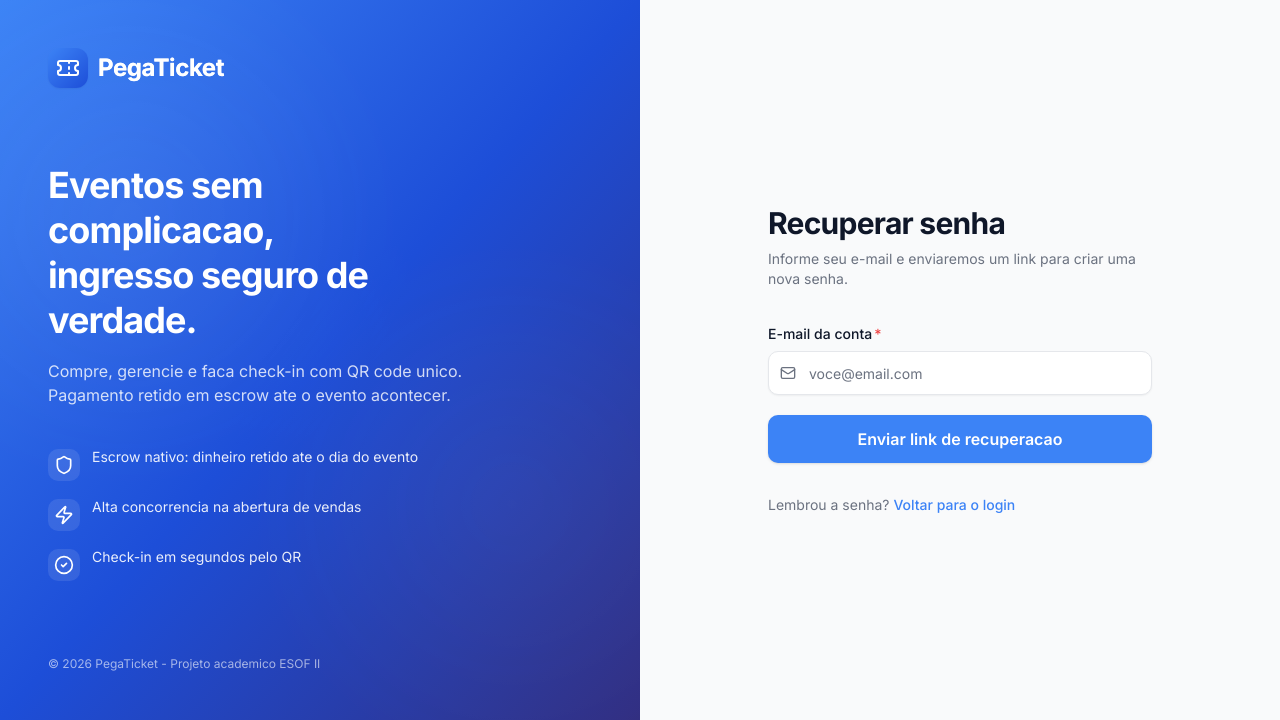
Test: <ForgotPassword> › rejeita email vazio (validacao client)
This screenshot has width=1280, height=720.
Click the button "Enviar link de recuperacao" at (960, 439), box top-left (768, 415), bottom-right (1152, 463)
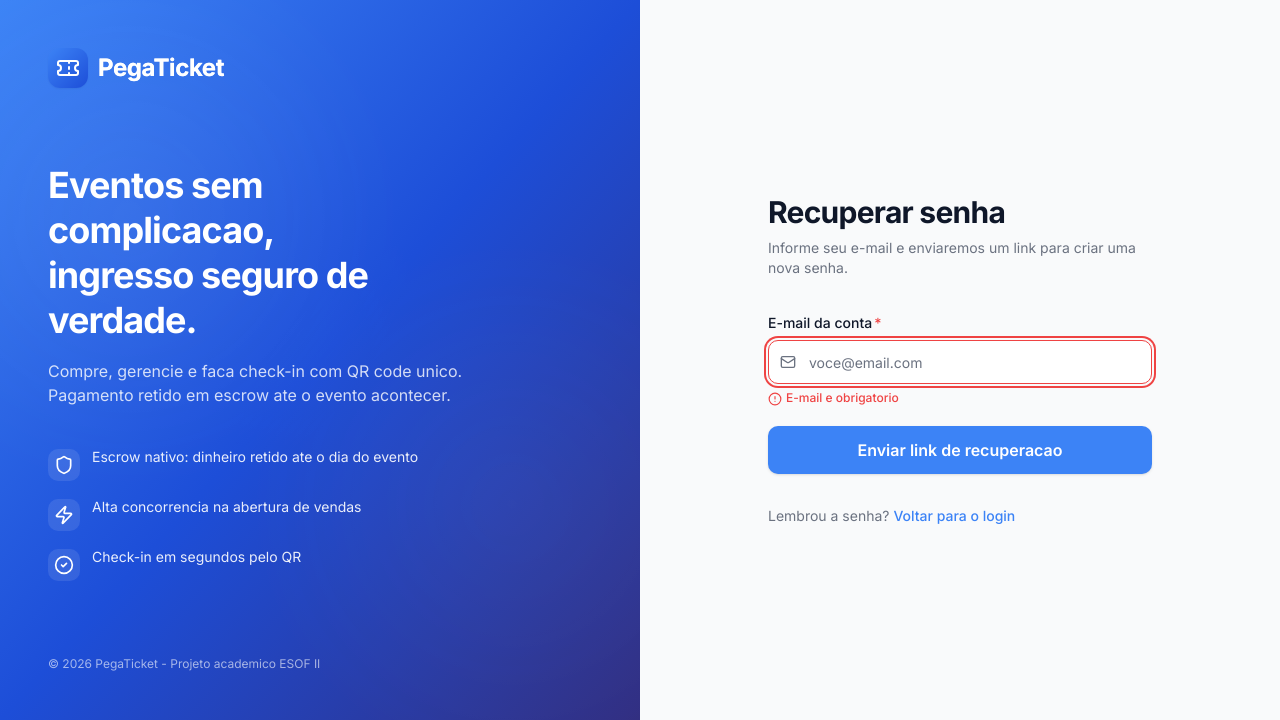
Check: the text "E-mail e obrigatorio" is shown, box top-left (786, 390), bottom-right (899, 406)
